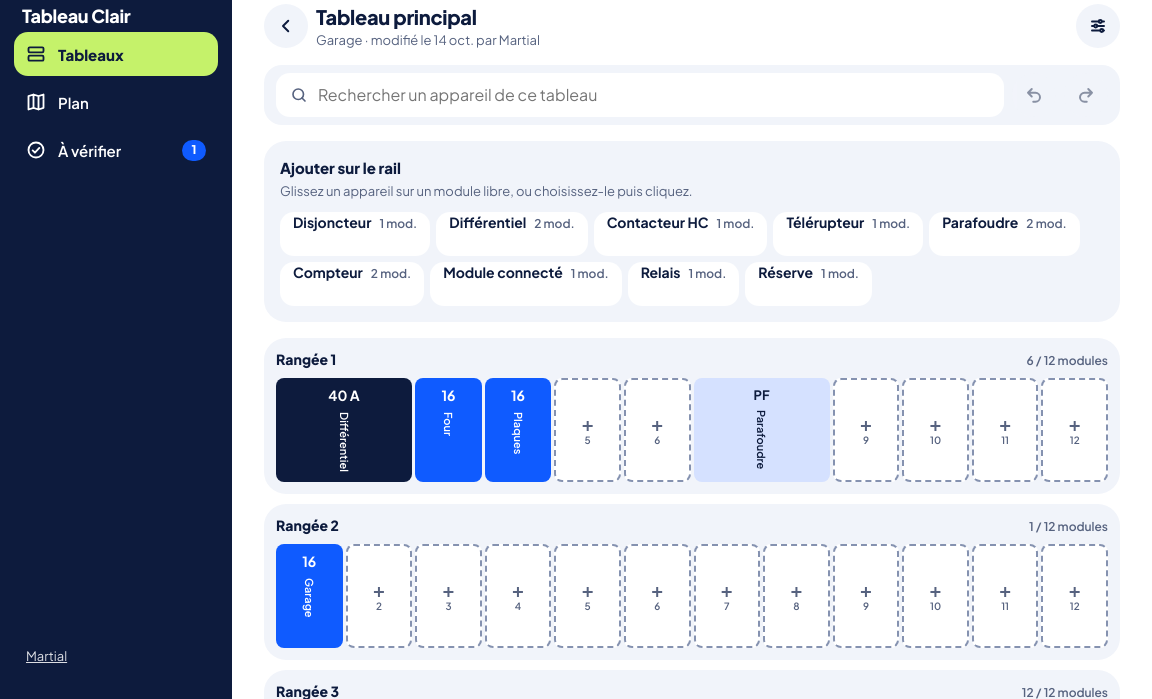
it: déplacement ← → › décale d’un module, enregistre avec la version et annonce le résultat
Click the button "16 Plaques" at [518, 430], box [485,378,551,482]
(page scrolled)
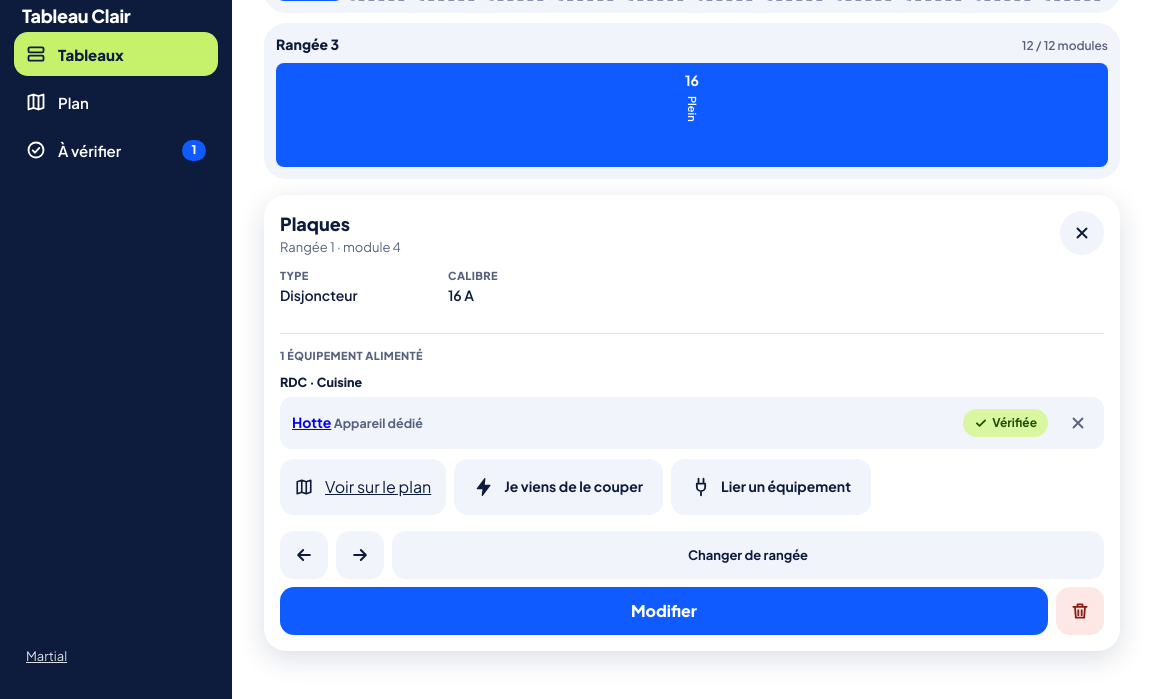
Click the button named "Déplacer à droite" at [360, 555], box [336,531,384,579]
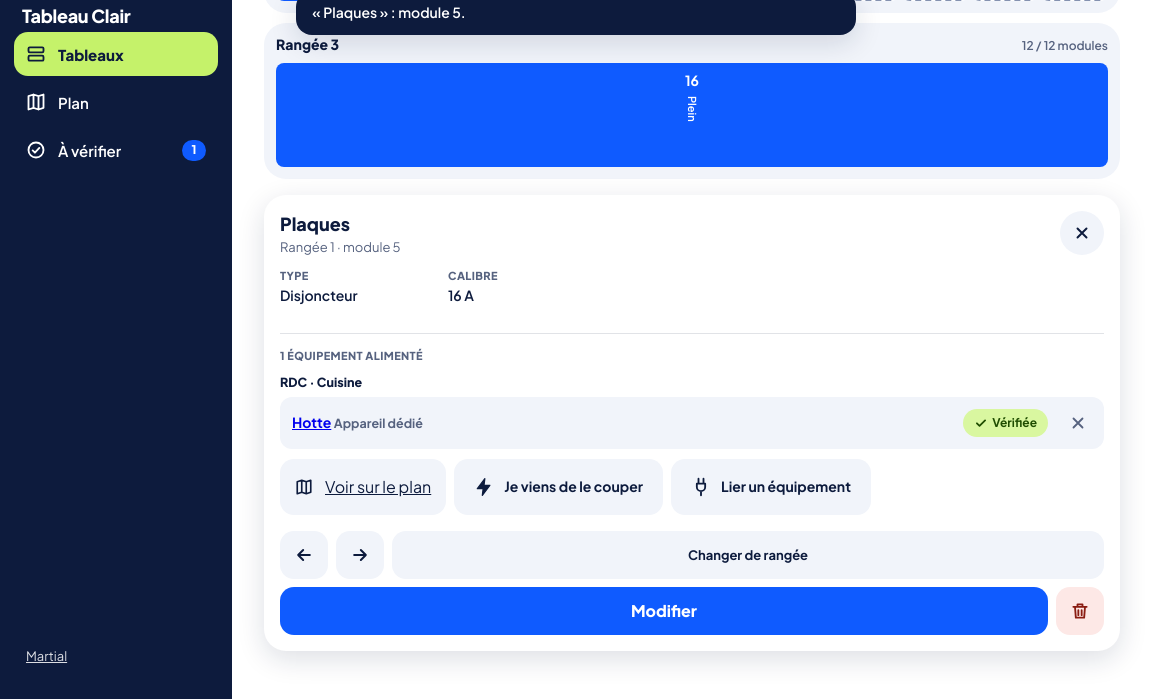
Now the message reads "« Plaques » : module 5.", box [312,3,466,21]
